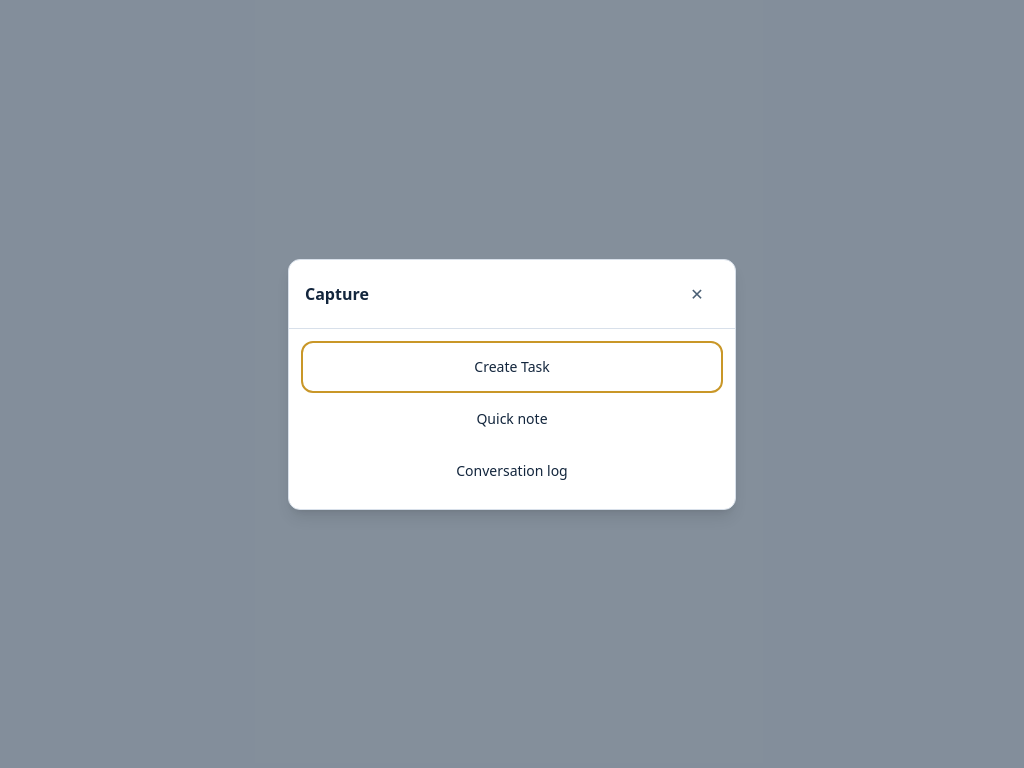
Test case: an acknowledgement that is not a save › never renders as saved, and keeps the note where the person can copy it
Click the button with test id "capture-choice-quick_note" at (512, 418), box [305, 396, 719, 440]
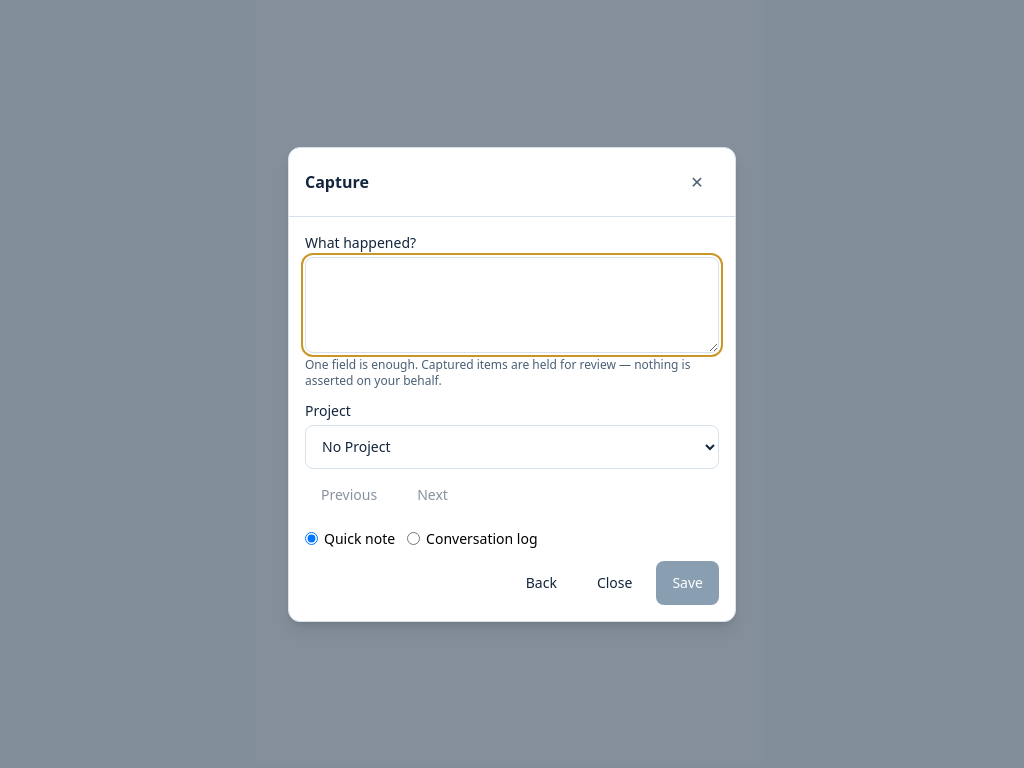
Type "synthetic note epsilon — flange tolerance review" into the text box with test id "capture-field" at (512, 304), box [305, 256, 719, 352]
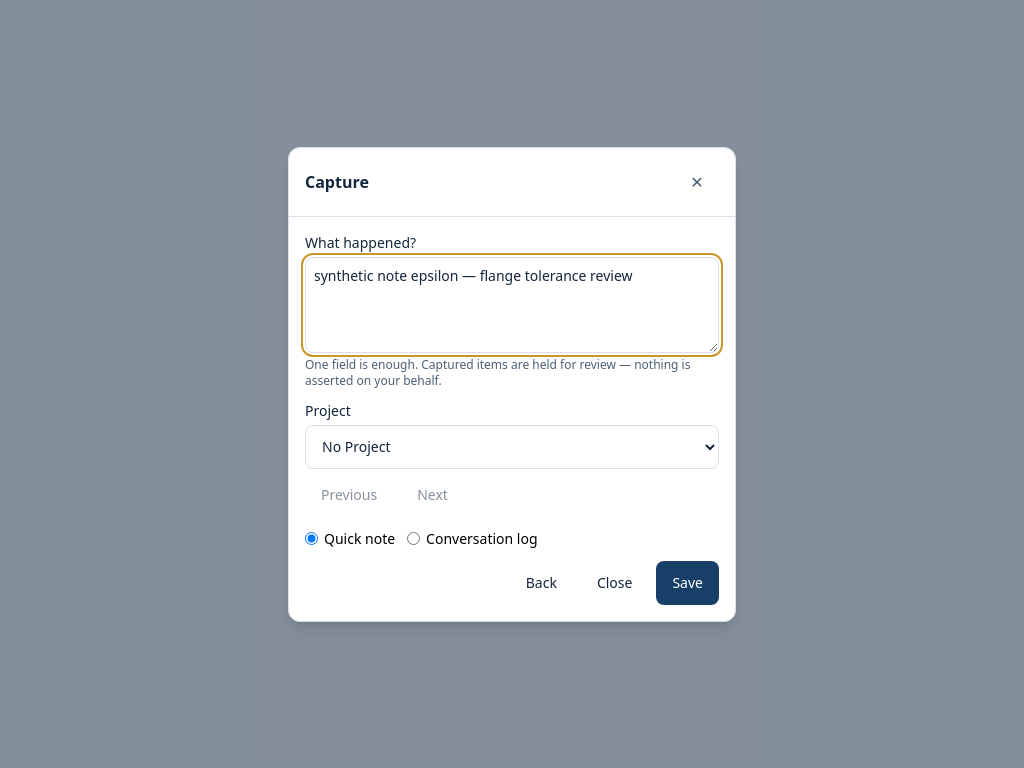
Click the button "Save" at (688, 582), box [656, 560, 719, 604]
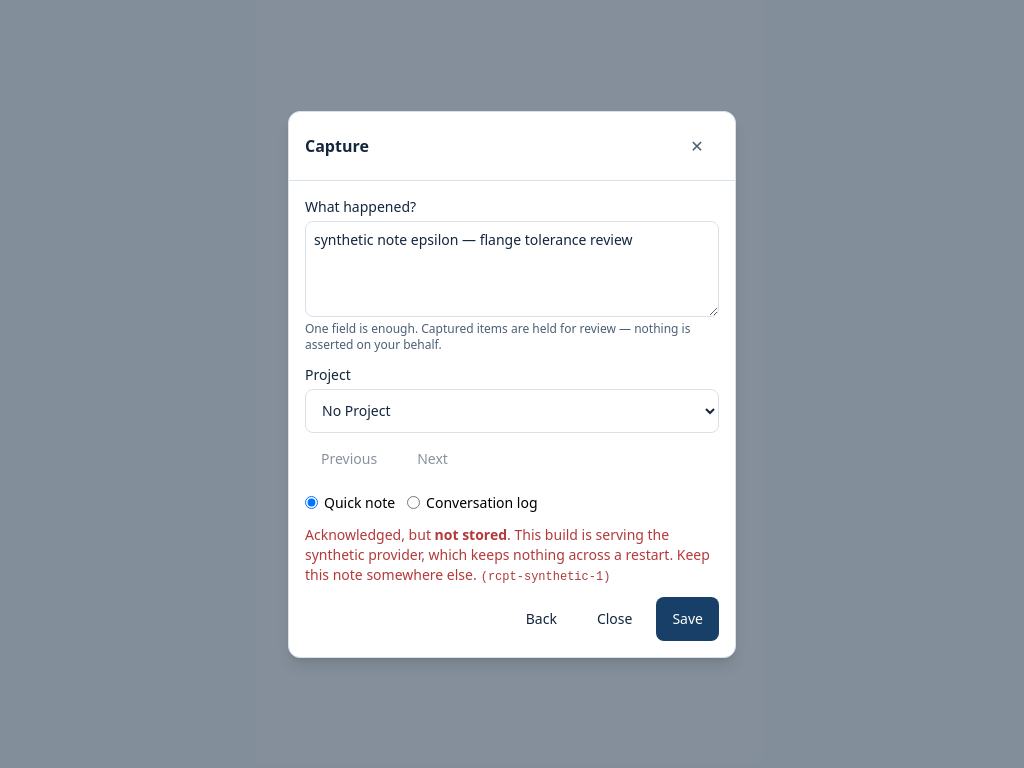
Check: the message with test id "capture-acknowledged" shows "not stored", box [435, 524, 507, 544]
